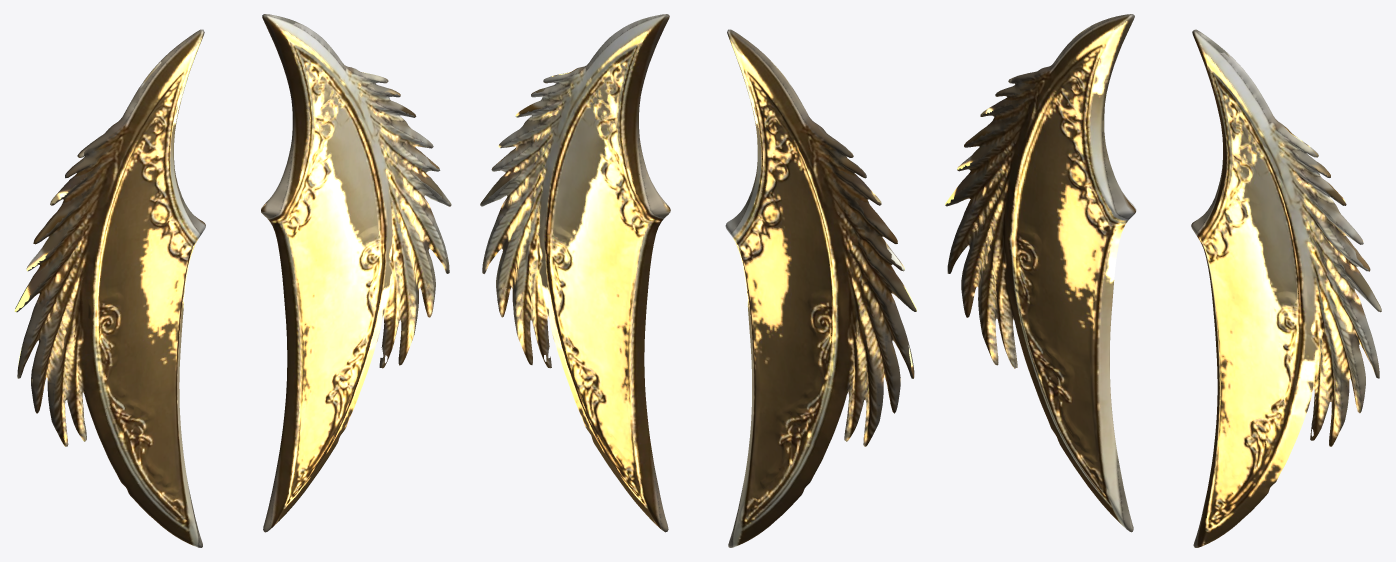
The model's file is lumen_golden_wings.glb.
3 renders of one model, left to right at view 1: azimuth 30°, elevation 25°; view 2: azimuth 150°, elevation 25°; view 3: azimuth 330°, elevation 25°, orthographic.
Parts seen in each view (by area): view 1: geometry_0; view 2: geometry_0; view 3: geometry_0.
Part boxes in pixels (x1=…): geometry_0: x1=14, y1=14, x2=451, y2=547; geometry_0: x1=480, y1=14, x2=916, y2=547; geometry_0: x1=945, y1=14, x2=1381, y2=547.
Size of the model in its own units: 0.8392 by 0.95 by 0.0498.
1 material, 1 textured.
